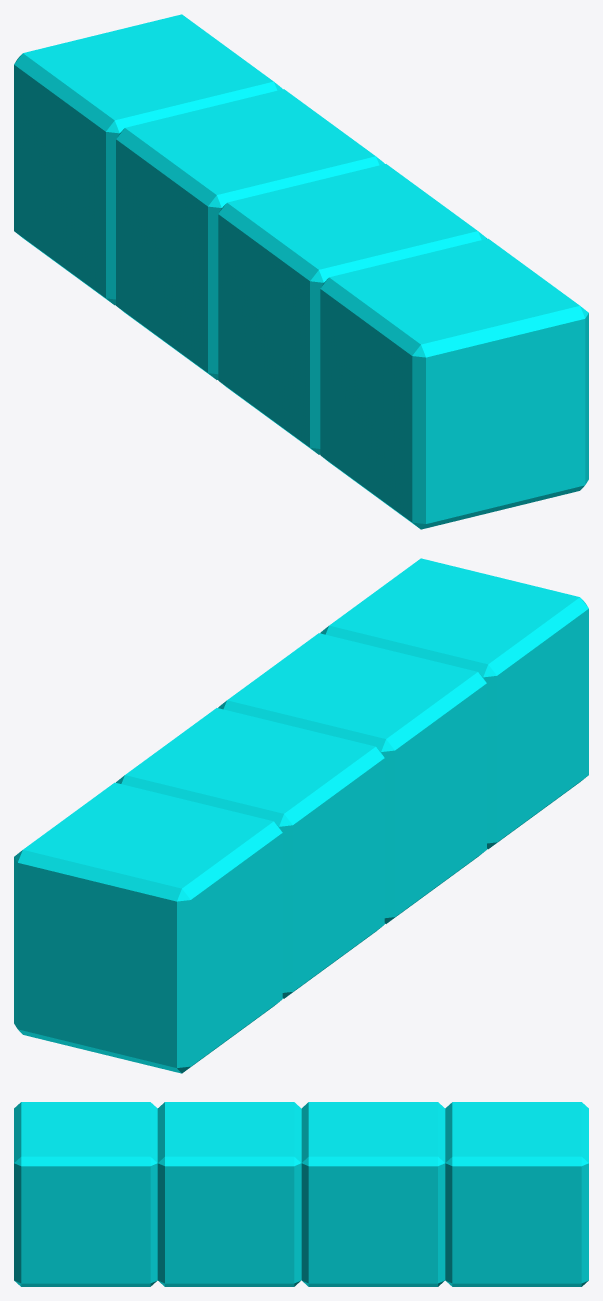
The model's file is Lang.obj.
The picture shows the model from 3 angles, top to bottom: view 1: azimuth 30°, elevation 25°; view 2: azimuth 150°, elevation 25°; view 3: azimuth 270°, elevation 25°; orthographic projection. The views are drawn at different scales.
Visible parts, largest first — view 1: Lang_Cube.002; view 2: Lang_Cube.002; view 3: Lang_Cube.002.
Part boxes in pixels (x1,y1,x2,y2): Lang_Cube.002: (14,14,588,529); Lang_Cube.002: (14,558,588,1073); Lang_Cube.002: (14,1102,588,1286).
Bounding box in the file's own units: 2 × 2 × 8.
1 material, 1 textured.
